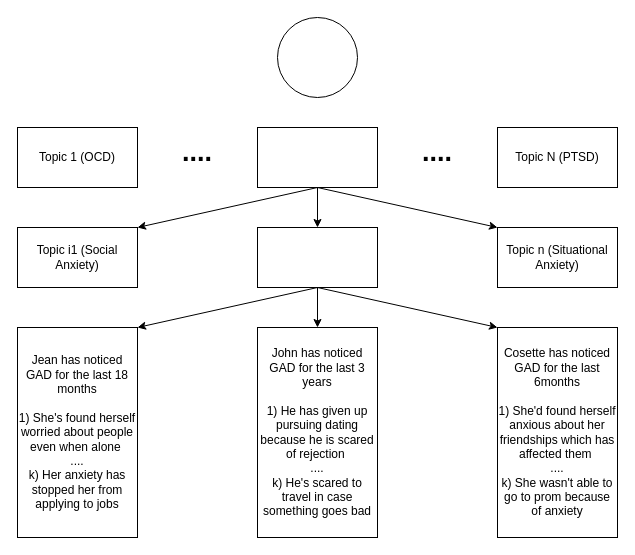
This 635x555 diagram has some shape labels left out. The centre of each missing label's shape, as x and y in pixels:
"Root" goes at point 317,57.
"Topic i (Anxiety)" goes at point 317,157.
"Topic i2 (GAD)" goes at point 317,257.
